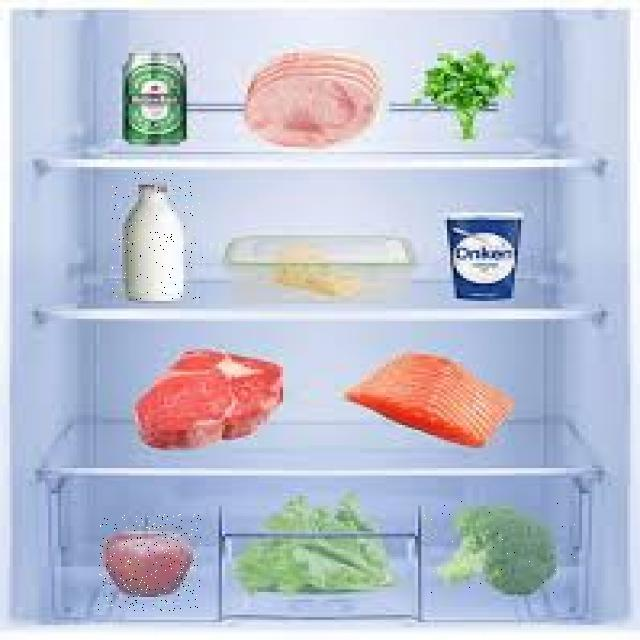apples: (98, 514, 202, 611)
broccoli: (424, 501, 582, 601)
milk: (112, 172, 203, 300)
